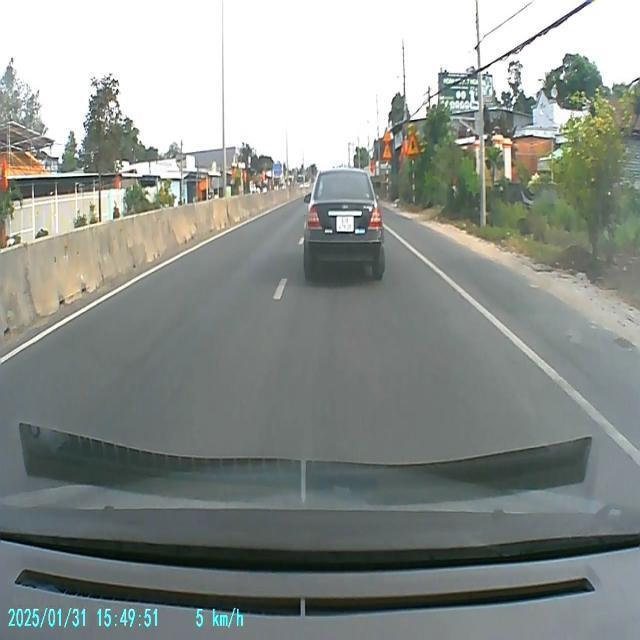207-giao-nhau-voi-duong-khong-uu-tien: (408, 130, 420, 158)
224-duong-nguoi-di-bo-cat-ngang: (383, 144, 393, 160)
